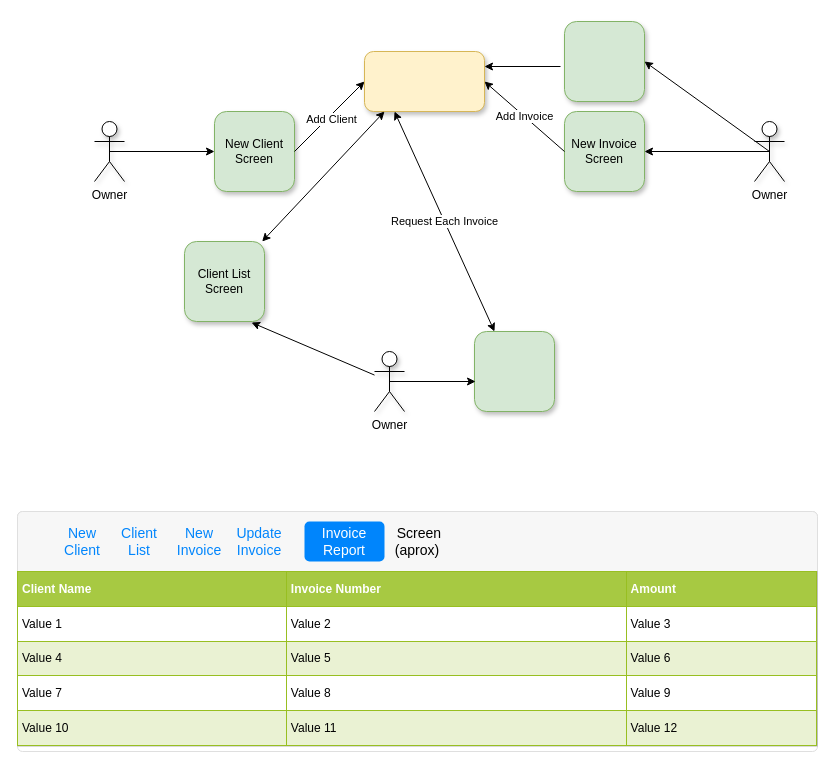
Some shapes in this 835 by 769 pixel diagram are drawn without their labels. The centre of each missing label's shape, as x and y in pixels:
Invoice Report Screen: point 515,372
Solidity Contract InvoiceTracker.sol: point 425,82
Update Invoice Screen: point 605,62
